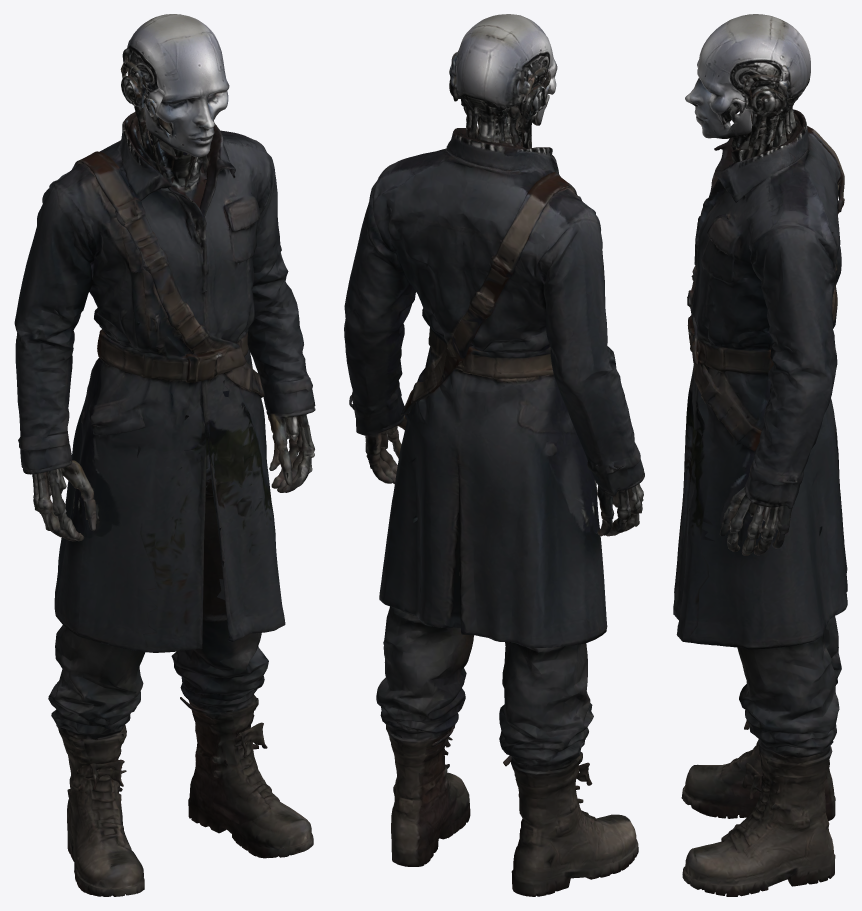
The model's file is verwalter.syntheten.glb.
The picture shows the model from 3 angles, left to right: view 1: azimuth 30°, elevation 25°; view 2: azimuth 150°, elevation 25°; view 3: azimuth 270°, elevation 25°; orthographic projection.
Parts seen in each view (by area): view 1: figur; view 2: figur; view 3: figur.
Part boxes in pixels (left/top/right/bottom): figur: left=14, top=14, right=315, bottom=896; figur: left=344, top=14, right=644, bottom=896; figur: left=673, top=14, right=847, bottom=896.
Size of the model in its own units: 0.3519 by 0.9868 by 0.1883.
Materials: 1 (1 with a texture image).
